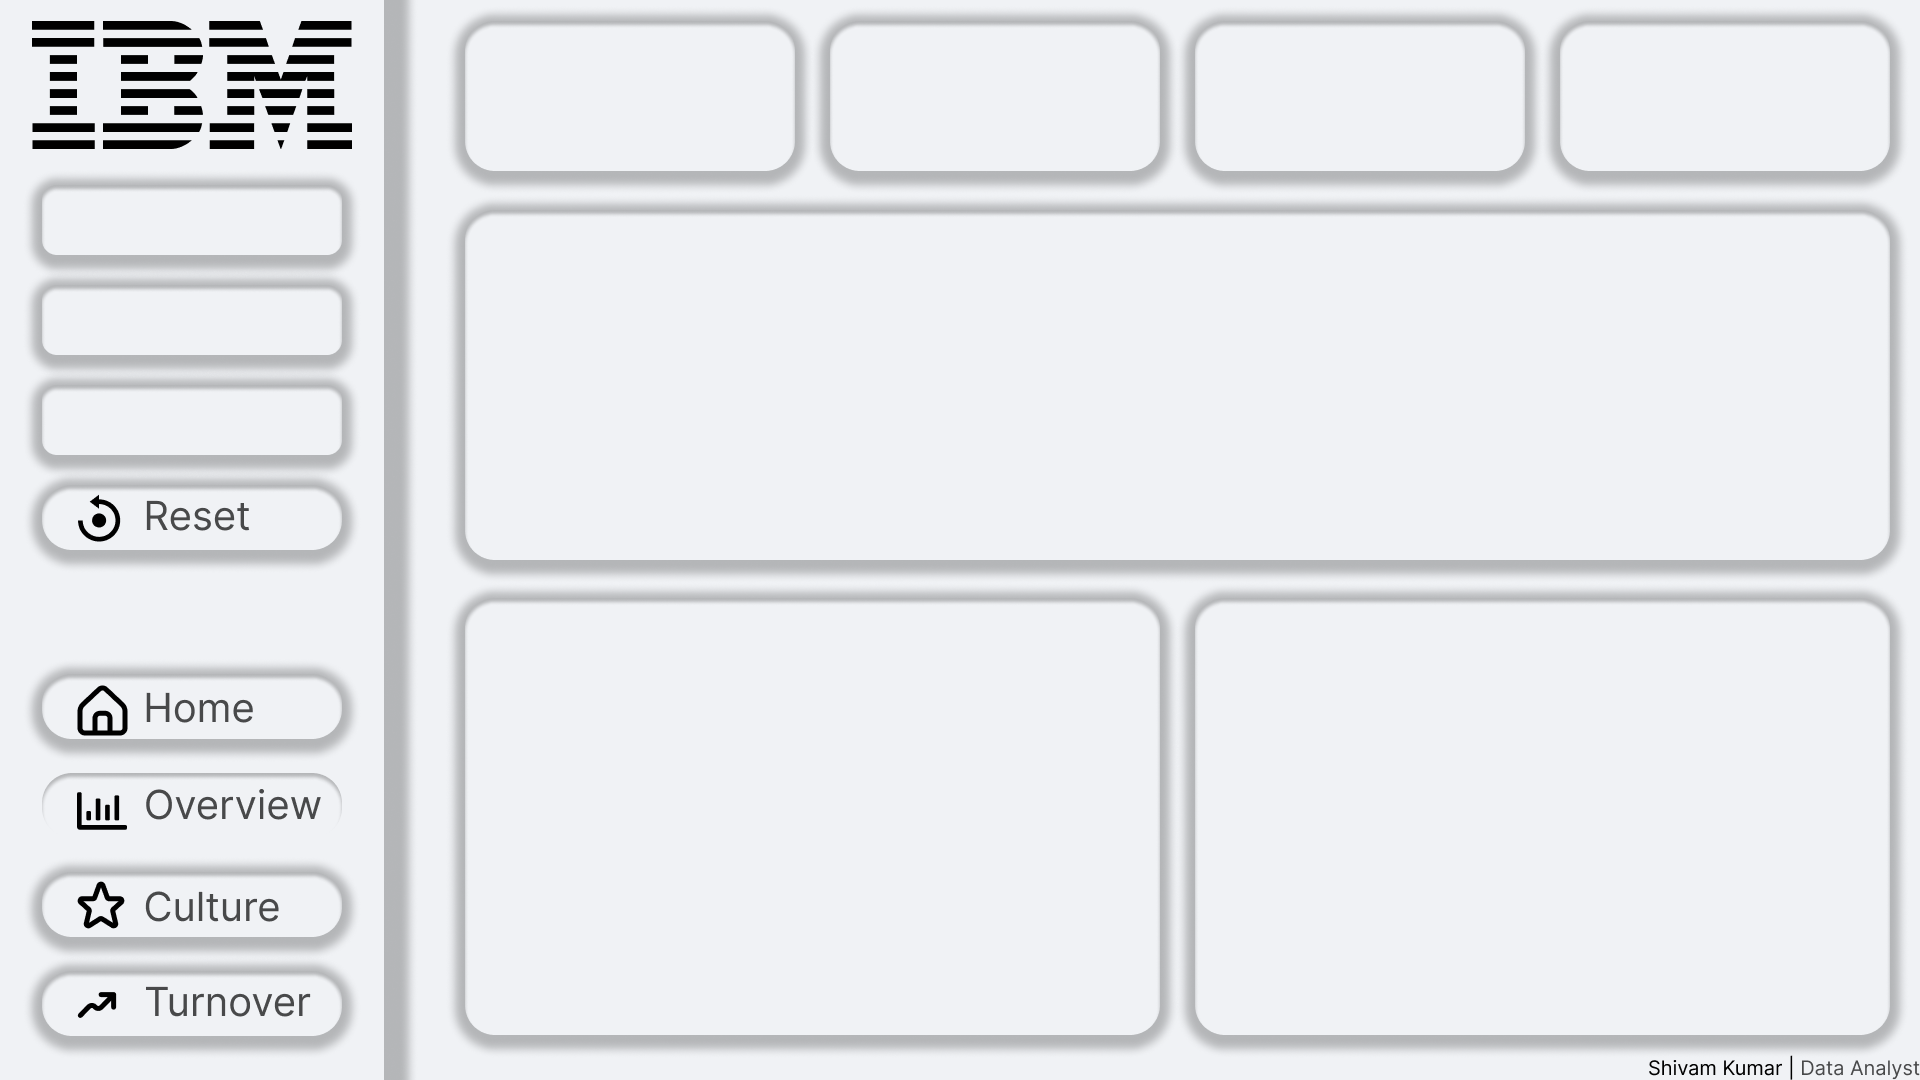

This screenshot's page, from the dashboard's own definition file:
{"tool":"powerbi","page":{"name":"Overview","canvas":[1920,1080],"ordinal":1},"visuals":[{"type":"cardVisual","title":"Total Employees","fields":{"Data":["_Measures.Total Employees"]},"box":[472.4,32.5,313.6,128.1],"z":0},{"type":"cardVisual","title":"Active Employees","fields":{"Data":["_Measures.Active Employees"]},"box":[837.6,32.5,313.6,128.1],"z":1000},{"type":"cardVisual","title":"Attrition Count","fields":{"Data":["_Measures.Attrition Count"]},"box":[1204.8,32.5,313.6,128.1],"z":2000},{"type":"cardVisual","title":"Attrition Rate","fields":{"Data":["_Measures.Attrition Rate %"]},"box":[1568.1,32.5,313.6,128.1],"z":3000},{"type":"areaChart","title":"Total Employees","fields":{"Category":["Dim_Date.Month Year"],"Y":["_Measures.Total Employees"]},"box":[453.2,210.4,1451.5,328.9],"z":4000},{"type":"clusteredBarChart","title":"Attrition Count","fields":{"Category":["Fact_HR.EducationField"],"Y":["_Measures.Attrition Count"]},"box":[453.2,604.3,698,415],"z":5000},{"type":"donutChart","title":"Attrition Count","fields":{"Category":["Fact_HR.MaritalStatus"],"Y":["_Measures.Attrition Count"]},"box":[1181.8,604.3,703.7,415],"z":6000},{"type":"slicer","title":"Year","fields":{"Values":["Dim_Date.Num Year"]},"box":[51.3,185.3,277.9,67],"z":7000},{"type":"slicer","title":"Quarter","fields":{"Values":["Dim_Date.Num Quarter"]},"box":[51.3,285.8,277.9,67],"z":8000},{"type":"slicer","title":"Department","fields":{"Values":["Fact_HR.Department"]},"box":[51.3,386.4,277.9,67],"z":9000},{"type":"actionButton","box":[45.3,676.1,293.7,55.2],"z":10000},{"type":"actionButton","box":[45.3,875.2,293.7,55.2],"z":11000},{"type":"actionButton","box":[45.3,975.8,293.7,55.2],"z":12000},{"type":"actionButton","box":[45,488.7,294.4,55.2],"z":12001}]}

Visuals, with their boxes in screenshot pixels (x1, y1, x2, y2), scaled from the page's 1920x1080 canvas onto the 1920x1080 screenshot:
"Total Employees" cardVisual: 472:32:786:161
"Active Employees" cardVisual: 838:32:1151:161
"Attrition Count" cardVisual: 1205:32:1518:161
"Attrition Rate" cardVisual: 1568:32:1882:161
"Total Employees" areaChart: 453:210:1905:539
"Attrition Count" clusteredBarChart: 453:604:1151:1019
"Attrition Count" donutChart: 1182:604:1886:1019
"Year" slicer: 51:185:329:252
"Quarter" slicer: 51:286:329:353
"Department" slicer: 51:386:329:453
actionButton: 45:676:339:731
actionButton: 45:875:339:930
actionButton: 45:976:339:1031
actionButton: 45:489:339:544
